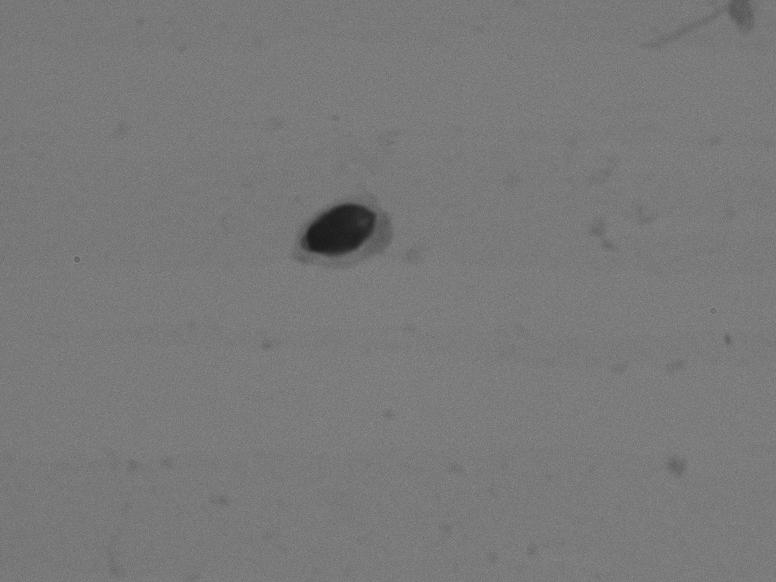Abnormal: (251, 151, 453, 327)
